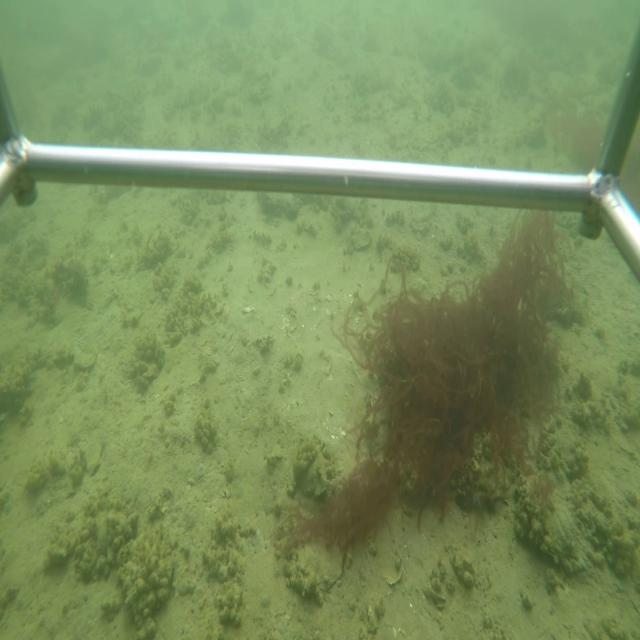Oyster-Closed: (515, 476, 599, 572)
Oyster-Indeterminate: (67, 342, 97, 373)
